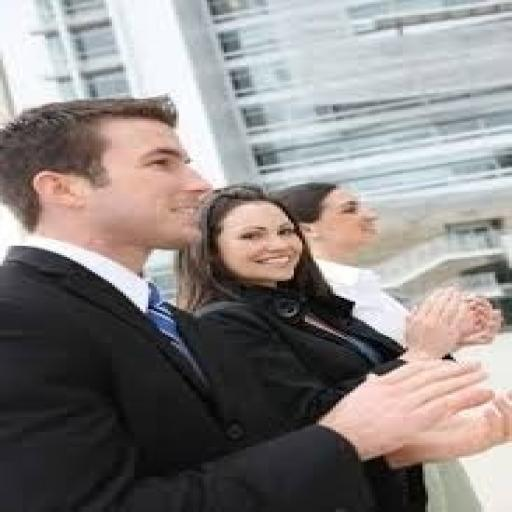clapping: (0, 93, 509, 510)
